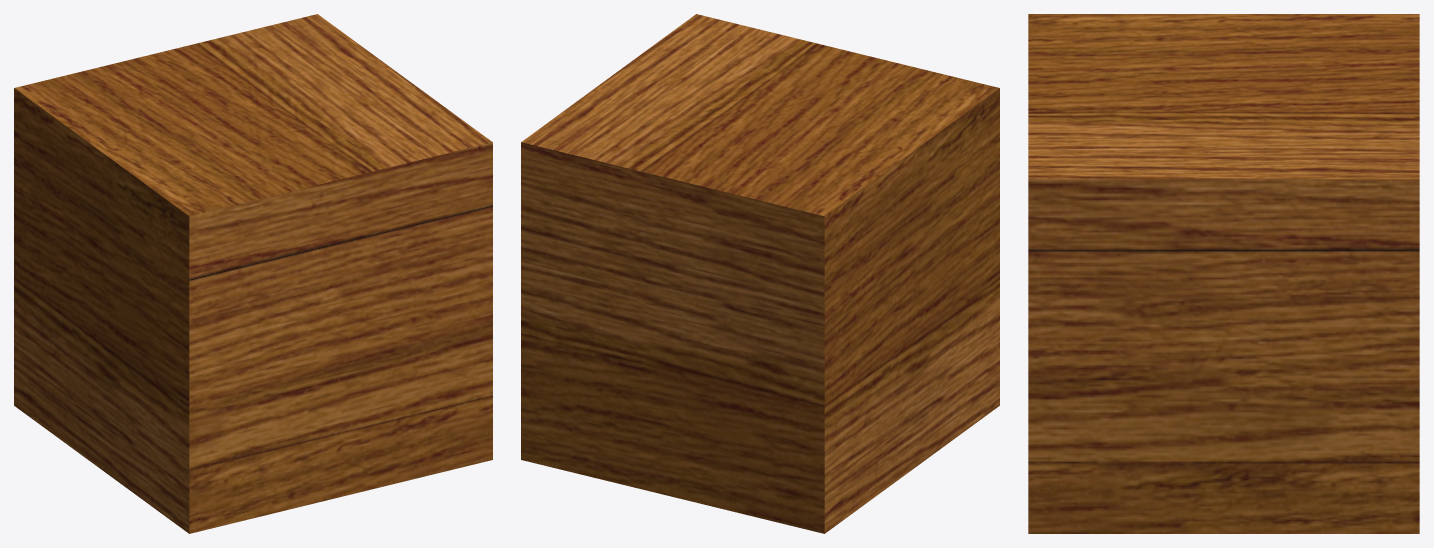
Rendered from multisample_cube.obj.
3 views of the same model, side by side, from view 1: azimuth 30°, elevation 25°; view 2: azimuth 150°, elevation 25°; view 3: azimuth 270°, elevation 25° (orthographic). The views are drawn at different scales.
Parts seen in each view (by area): view 1: Cube; view 2: Cube; view 3: Cube.
Boxes of the visible parts, x1,y1,x2,y2 form: Cube: [14, 14, 492, 533]; Cube: [521, 14, 999, 533]; Cube: [1028, 14, 1419, 533].
Size of the model in its own units: 2 by 2 by 2.
1 material, 1 textured.
